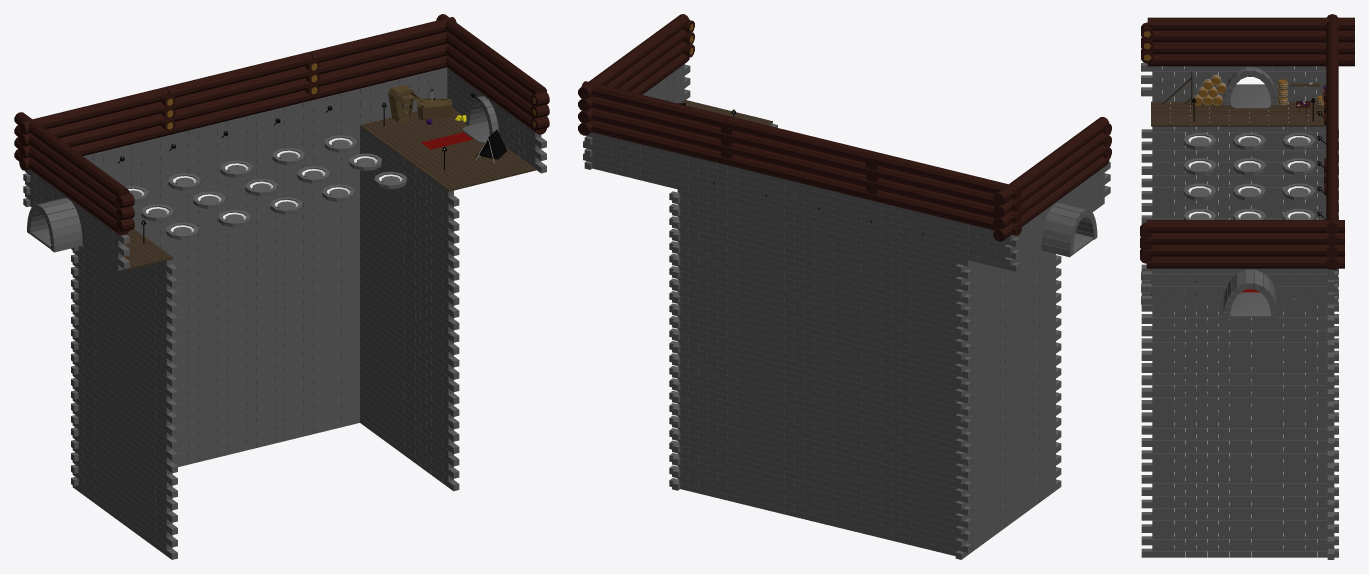
The model's file is 3_level.fbx.
3 views of the same model, side by side, from view 1: azimuth 30°, elevation 25°; view 2: azimuth 150°, elevation 25°; view 3: azimuth 270°, elevation 25° (orthographic).
Visible parts, largest first — view 1: Cube, Cylinder, Floor01, Floor00, Cube.007, Cube.008; view 2: Cube, Cylinder; view 3: Cube, Cylinder, Floor00, plat.011, plat.012, plat.001, plat.002, plat.006, plat.007, plat.005, plat, plat.010 (+3 smaller).
Boxes of the visible parts, x1,y1,x2,y2 form: Cube: (23, 67, 546, 559); Cylinder: (14, 14, 549, 235); Floor01: (360, 108, 536, 191); Floor00: (124, 229, 173, 270); Cube.007: (388, 84, 420, 122); Cube.008: (417, 97, 452, 120); Cube: (583, 64, 1110, 559); Cylinder: (578, 14, 1111, 241); Cube: (1141, 63, 1338, 559); Cylinder: (1140, 14, 1354, 269); Floor00: (1151, 101, 1326, 126); plat.011: (1183, 158, 1216, 175); plat.012: (1183, 183, 1216, 200); plat.001: (1282, 158, 1315, 175); plat.002: (1282, 183, 1315, 200); plat.006: (1233, 158, 1266, 175); plat.007: (1233, 183, 1266, 200); plat.005: (1233, 133, 1266, 149); plat: (1282, 133, 1315, 149); plat.010: (1183, 133, 1216, 149).
Size of the model in its own units: 2782 by 2108 by 1085.
